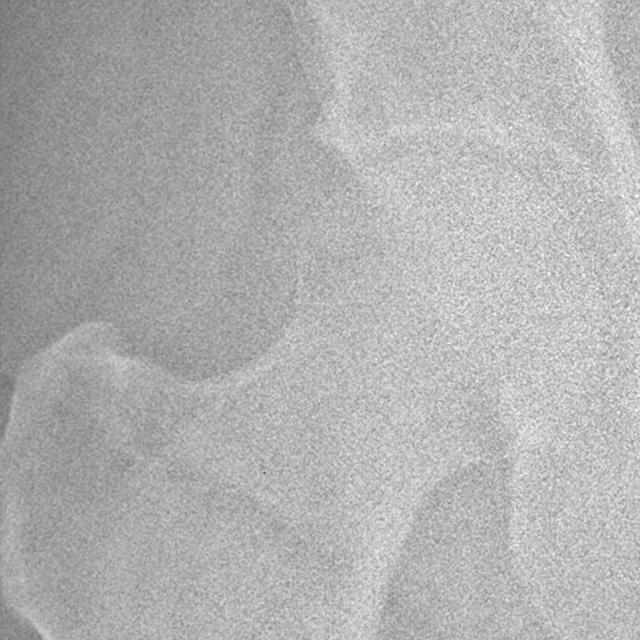Fitted_femural_head: (331, 150, 432, 331)
